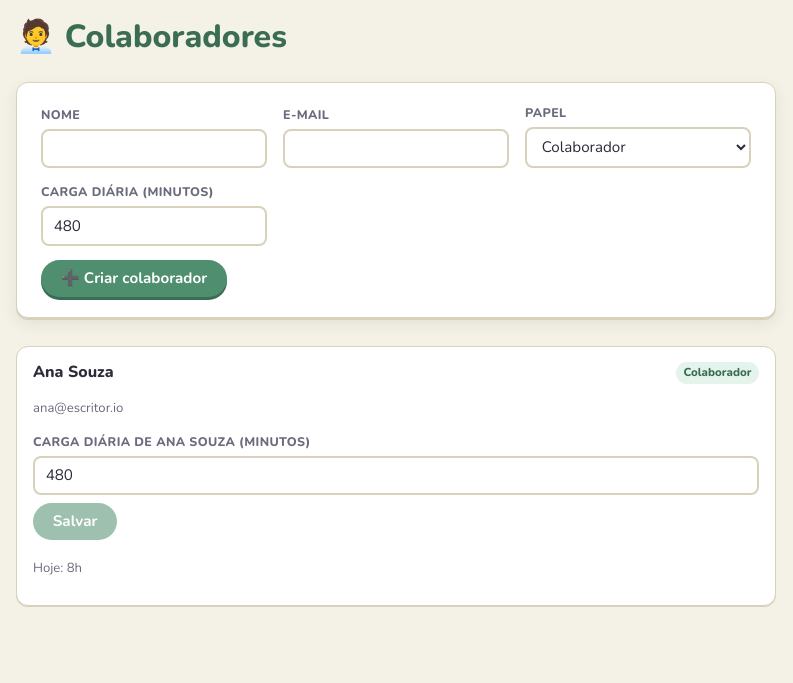
Scenario: ColaboradoresPage › editar a carga diária manda o PATCH e atualiza a lista
Check: the text "Ana Souza" is shown, box 33,360 -> 114,385
Replace the text in the number field labelled "Carga diária de Ana Souza (minutos)" with "360": (396, 475) 33,456 -> 759,495
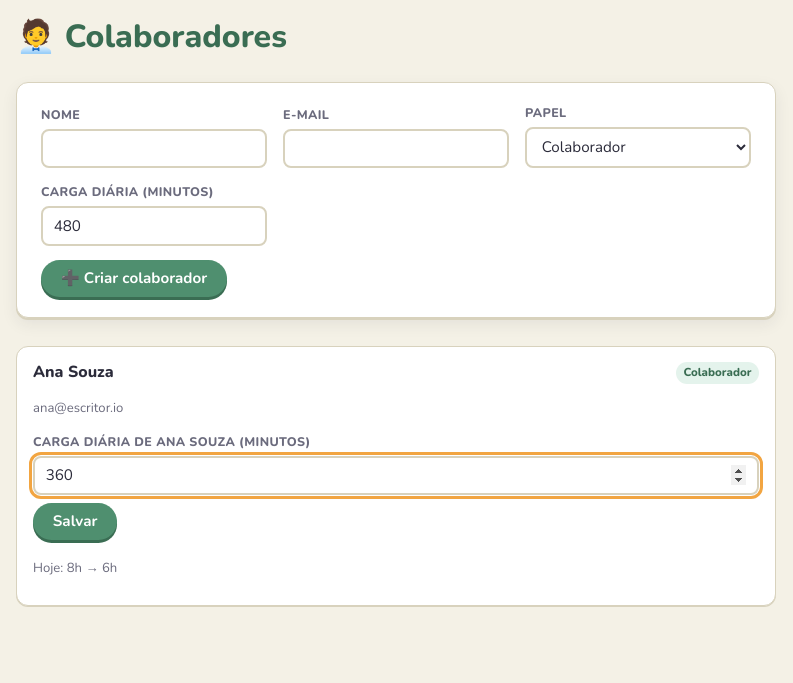
Click the button "Salvar": (75, 521) 33,503 -> 117,540
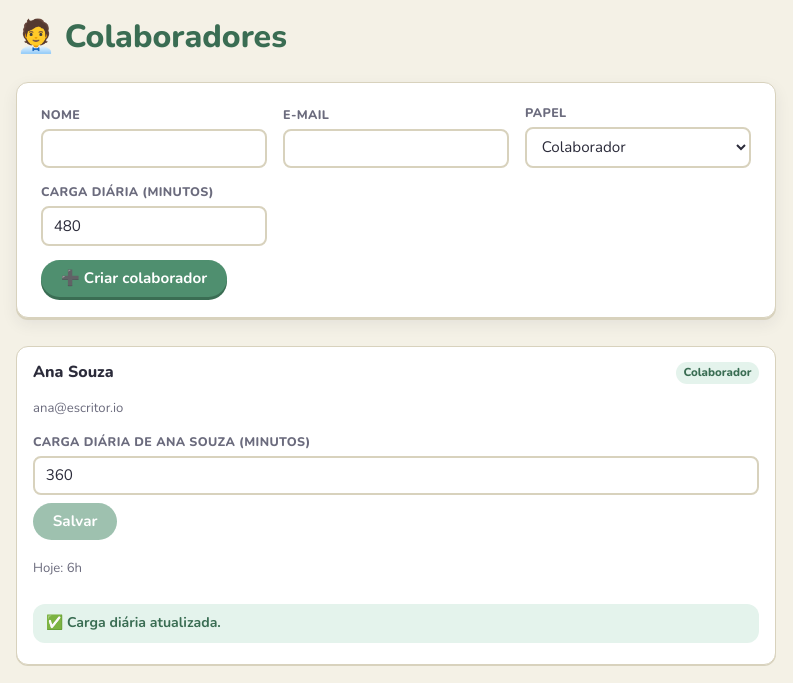
Check: the text "Hoje: 6h" is shown, box 33,559 -> 82,577
